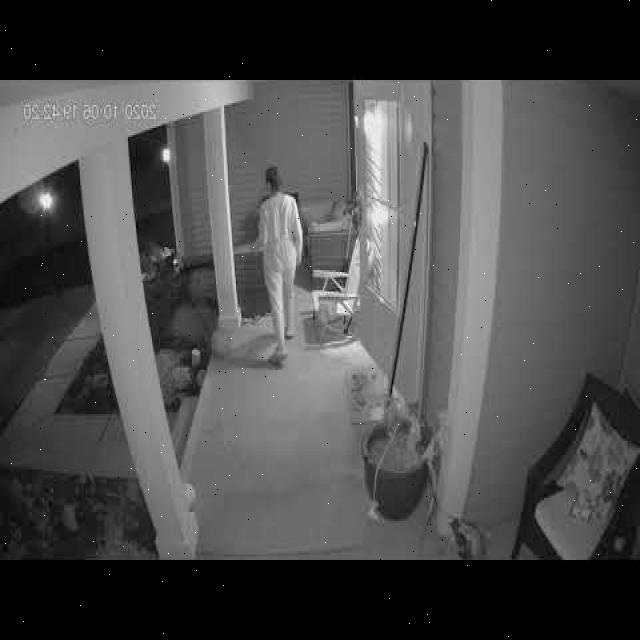standing: (256, 167, 303, 366)
